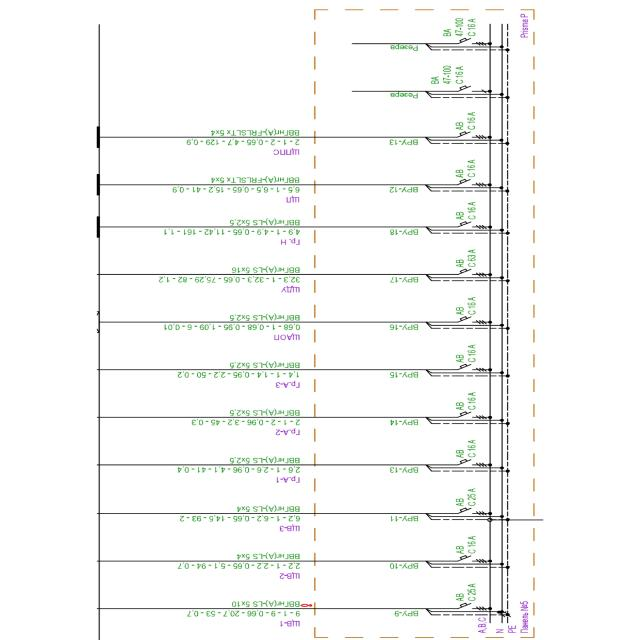-: (430, 64, 465, 86), (443, 17, 478, 38), (452, 110, 478, 131), (453, 200, 477, 222), (453, 342, 478, 363), (453, 439, 478, 460), (454, 534, 478, 555), (455, 486, 479, 507), (454, 390, 478, 411), (453, 248, 478, 268), (454, 158, 478, 178), (455, 582, 479, 602), (455, 296, 479, 316), (272, 474, 304, 486), (518, 12, 530, 39), (274, 332, 304, 342), (270, 146, 300, 156), (274, 427, 304, 437), (274, 380, 303, 390), (276, 618, 304, 628), (276, 524, 302, 534), (278, 284, 302, 294), (280, 236, 302, 246), (276, 572, 302, 580), (286, 195, 302, 205)
QF: (455, 220, 489, 230), (454, 410, 488, 420), (456, 316, 488, 326), (456, 130, 488, 140), (455, 178, 487, 188), (456, 458, 488, 468), (456, 364, 488, 374), (457, 84, 488, 94), (456, 268, 488, 277), (456, 602, 488, 611), (457, 555, 488, 564), (456, 508, 488, 516), (456, 38, 486, 46)
